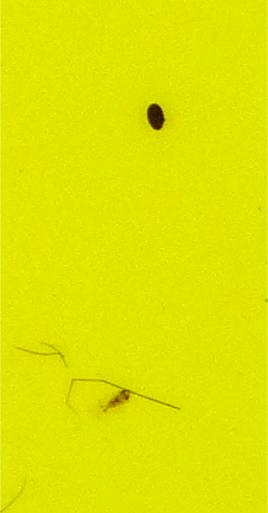Coleoptera: (143, 100, 168, 133)
Hemiptera: (100, 378, 137, 413)
